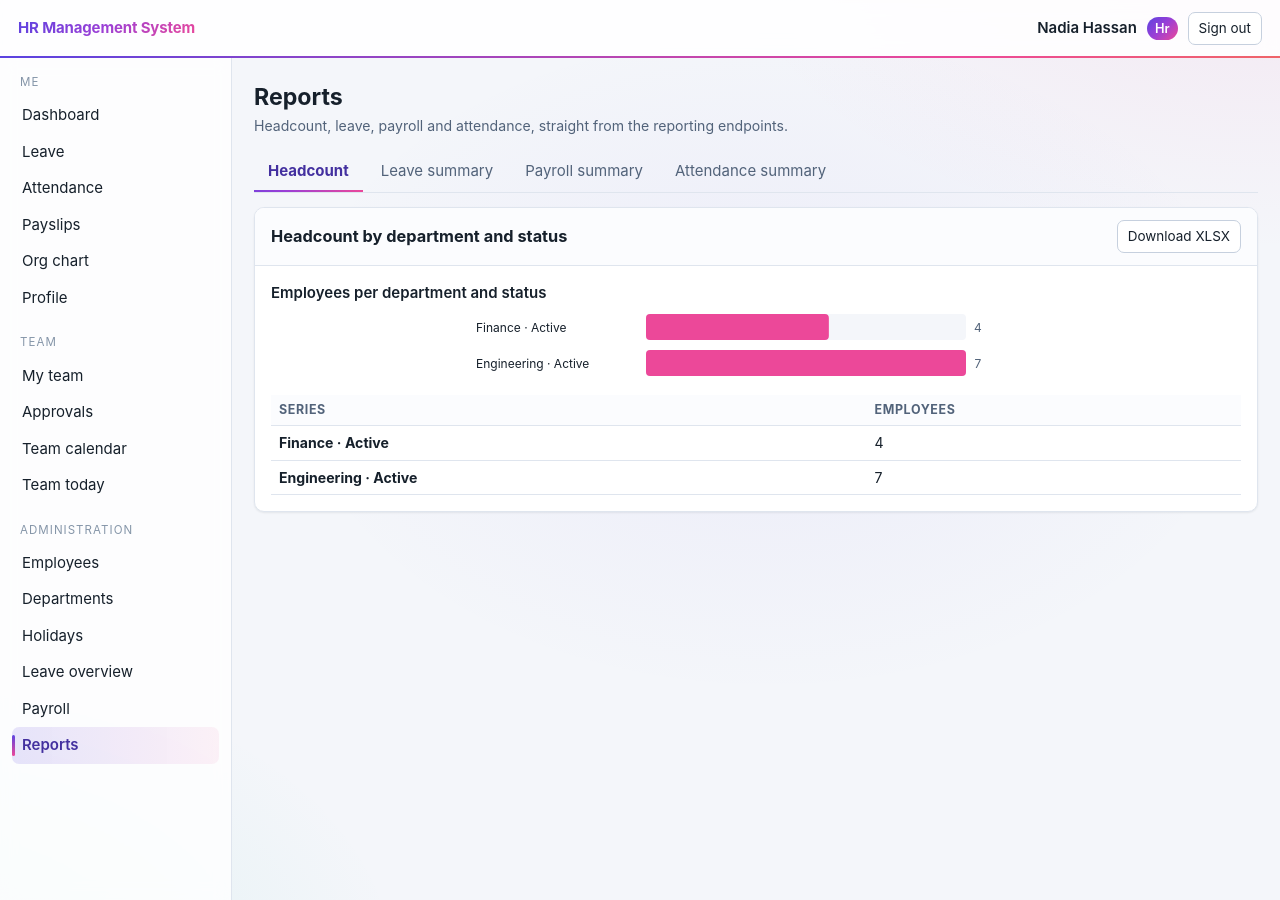
Test case: reports › asks the leave summary for the current year and charts it
Click the tab "Leave summary". click: (437, 172)
box: [367, 152, 507, 192]
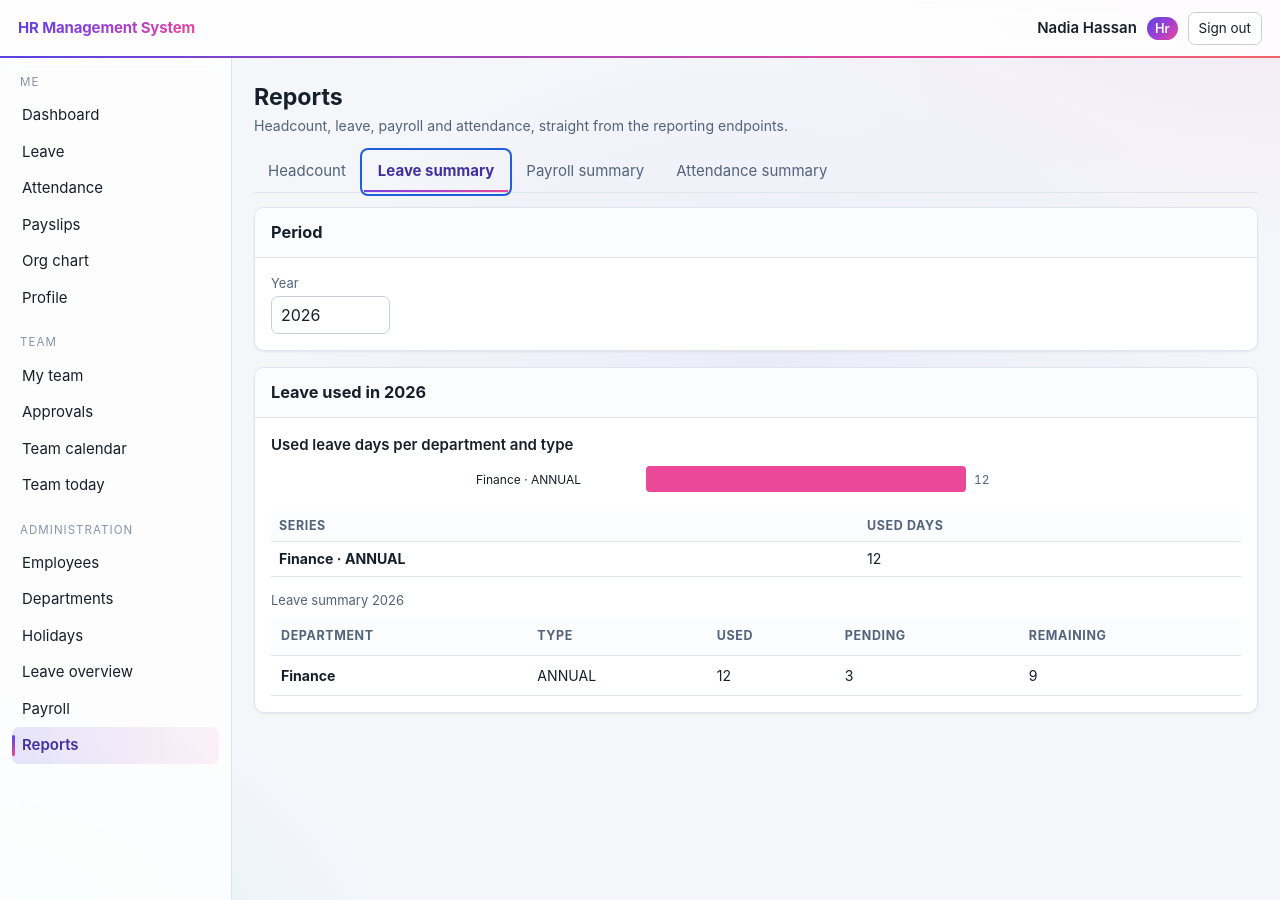
Now the row "Finance · ANNUAL 12" is shown, box [271, 542, 1241, 576]
